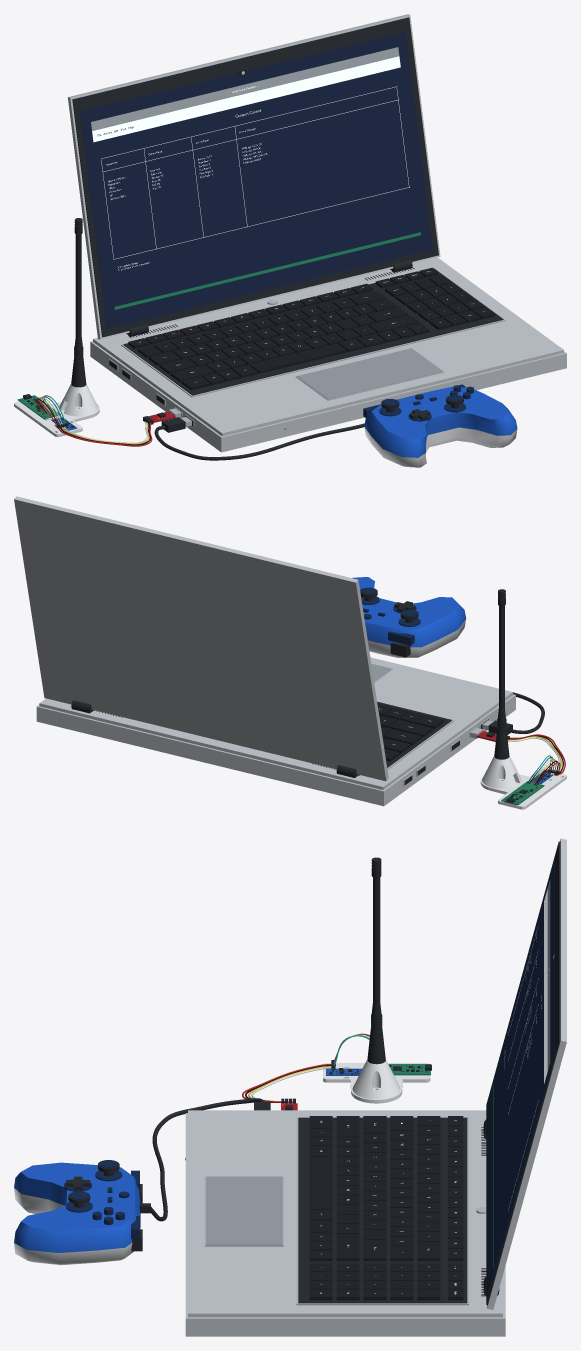
File: transmitter.glb
3 views of the same model, one above another, from view 1: azimuth 30°, elevation 25°; view 2: azimuth 150°, elevation 25°; view 3: azimuth 270°, elevation 25° (orthographic). The views are drawn at different scales.
Parts seen in each view (by area): view 1: LCD glass, Laptop palmrest and deck, Display bezel, Laptop lower shell, Gamepad blue upper shell, Display rear shell, Terminal menu strip, Touchpad, Keyboard bed, Terminal title bar, Transmitter platform + Pico + HC12 (original STL), Gamepad white lower shell (+5 smaller); view 2: Display rear shell, Laptop palmrest and deck, Laptop lower shell, Gamepad blue upper shell, Transmitter platform + Pico + HC12 (original STL), Gamepad white lower shell, Antenna shaft - diameter 5.7 mm, Keyboard bed, Key Shift; view 3: Laptop palmrest and deck, LCD glass, Keyboard bed, Gamepad blue upper shell, Laptop lower shell, Touchpad, Display rear shell, Transmitter platform + Pico + HC12 (original STL), Display bezel, Gamepad white lower shell, Keyboard recess, Key Space (+5 smaller).
Boxes of the visible parts, left/top/right/bottom form: LCD glass: left=80, top=32, right=432, bottom=328; Laptop palmrest and deck: left=93, top=257, right=563, bottom=436; Display bezel: left=72, top=17, right=438, bottom=337; Laptop lower shell: left=90, top=341, right=566, bottom=452; Gamepad blue upper shell: left=364, top=387, right=517, bottom=457; Display rear shell: left=67, top=14, right=440, bottom=339; Terminal menu strip: left=92, top=56, right=400, bottom=142; Touchpad: left=297, top=348, right=442, bottom=399; Keyboard bed: left=123, top=268, right=503, bottom=395; Terminal title bar: left=91, top=47, right=399, bottom=130; Transmitter platform + Pico + HC12 (original STL): left=14, top=383, right=99, bottom=437; Gamepad white lower shell: left=364, top=427, right=517, bottom=467; Display rear shell: left=14, top=496, right=388, bottom=781; Laptop palmrest and deck: left=39, top=657, right=512, bottom=789; Laptop lower shell: left=36, top=694, right=515, bottom=806; Gamepad blue upper shell: left=352, top=577, right=466, bottom=647; Transmitter platform + Pico + HC12 (original STL): left=480, top=756, right=566, bottom=809; Gamepad white lower shell: left=367, top=619, right=465, bottom=657; Antenna shaft - diameter 5.7 mm: left=499, top=606, right=504, bottom=708; Keyboard bed: left=377, top=701, right=451, bottom=767; Key Shift: left=389, top=719, right=432, bottom=737; Laptop palmrest and deck: left=188, top=1110, right=502, bottom=1317; LCD glass: left=488, top=859, right=554, bottom=1293; Keyboard bed: left=298, top=1117, right=467, bottom=1303; Gamepad blue upper shell: left=14, top=1162, right=140, bottom=1252; Laptop lower shell: left=185, top=1113, right=505, bottom=1336; Touchpad: left=206, top=1176, right=282, bottom=1245; Display rear shell: left=487, top=838, right=566, bottom=1309; Transmitter platform + Pico + HC12 (original STL): left=323, top=1059, right=431, bottom=1103; Display bezel: left=486, top=841, right=560, bottom=1305; Gamepad white lower shell: left=14, top=1188, right=133, bottom=1265; Keyboard recess: left=296, top=1117, right=468, bottom=1305; Key Space: left=309, top=1156, right=332, bottom=1209.
Bounding box in the file's own units: 0.5019 × 0.2549 × 0.432.
